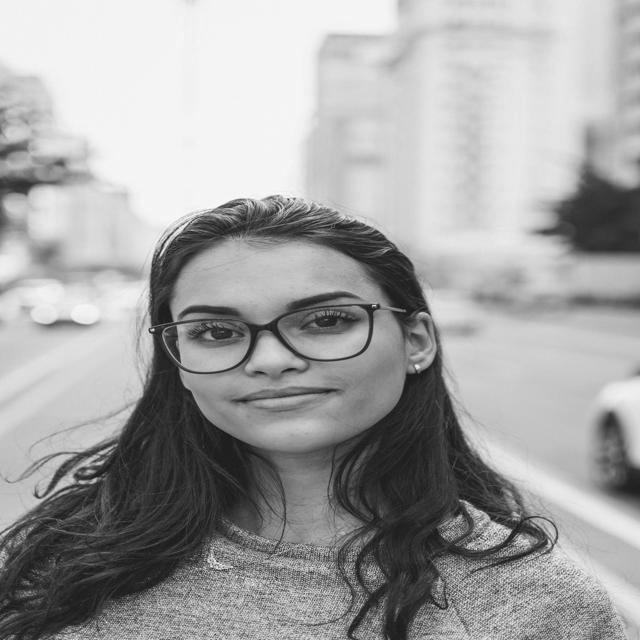Happiness: (168, 238, 406, 456)
